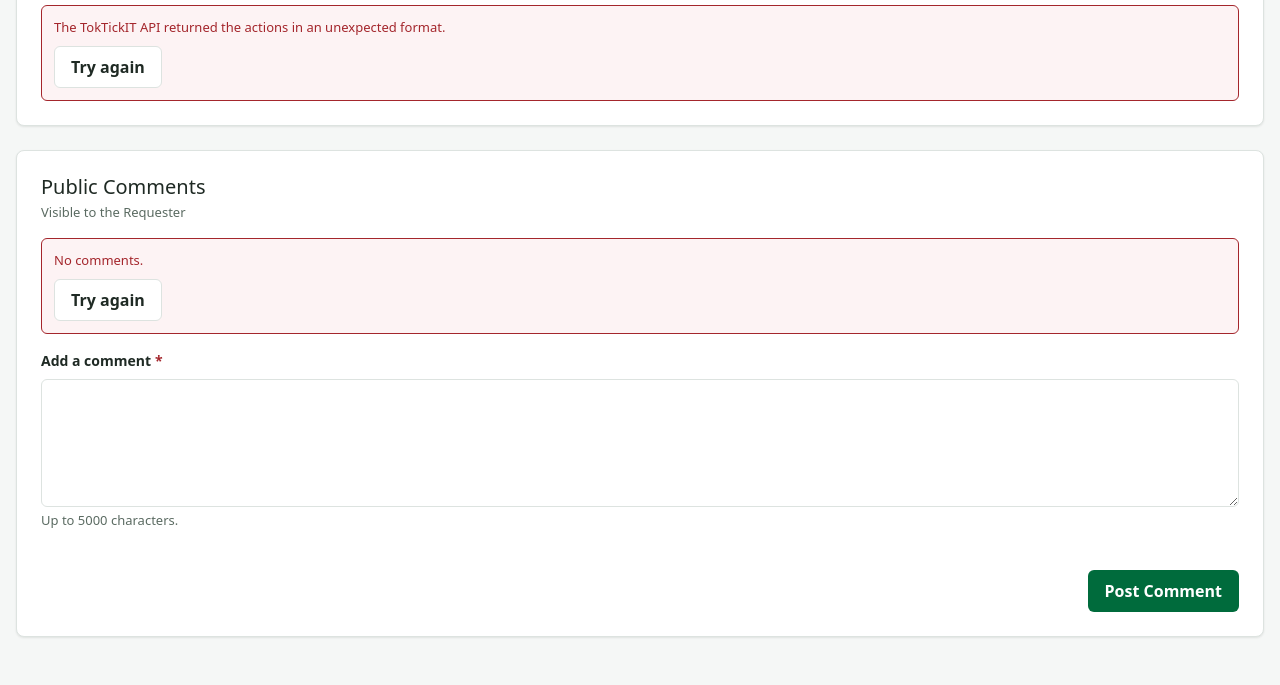
Test: review of PR #63 › a comment posted while the list is failed is shown, not lost
(page scrolled)
Expected: the text "No comments." is shown, [54,251,143,269]
Type "Posted before the list arrived." into the text box labelled "Add a comment*" at point(640, 443), box [41,379,1239,507]
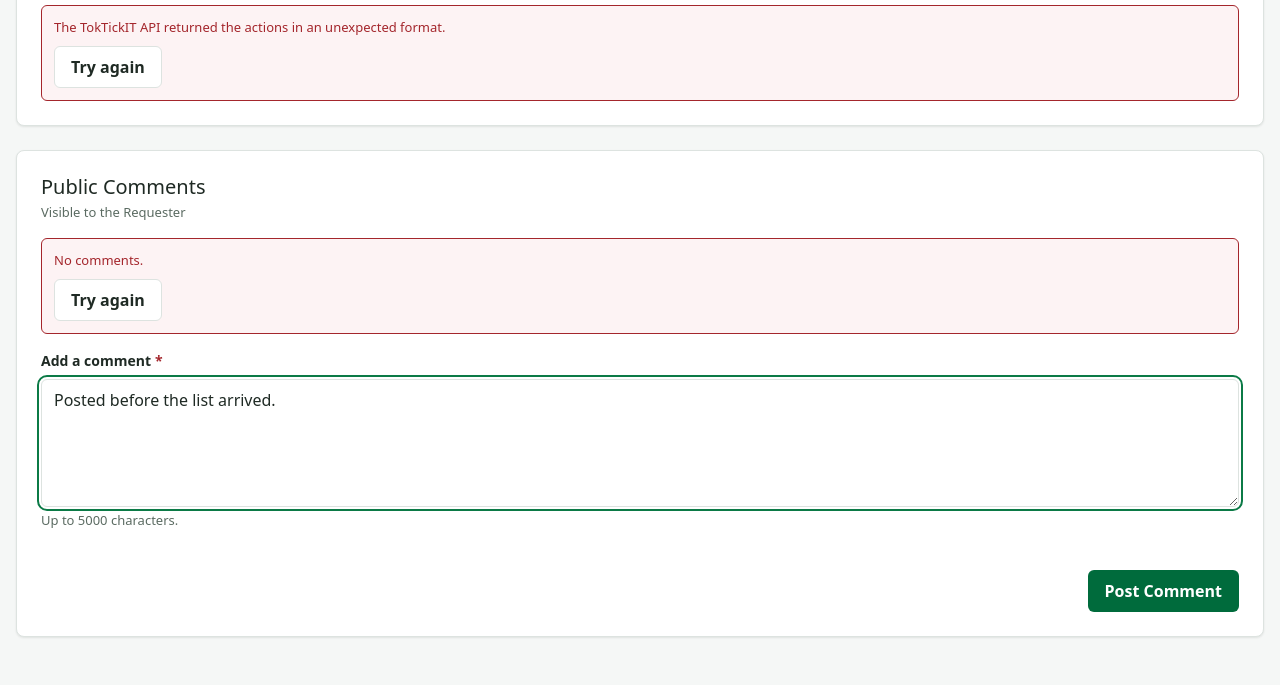
Click the button "Post Comment" at point(1163, 591), box [1088,570,1239,612]
(page scrolled)
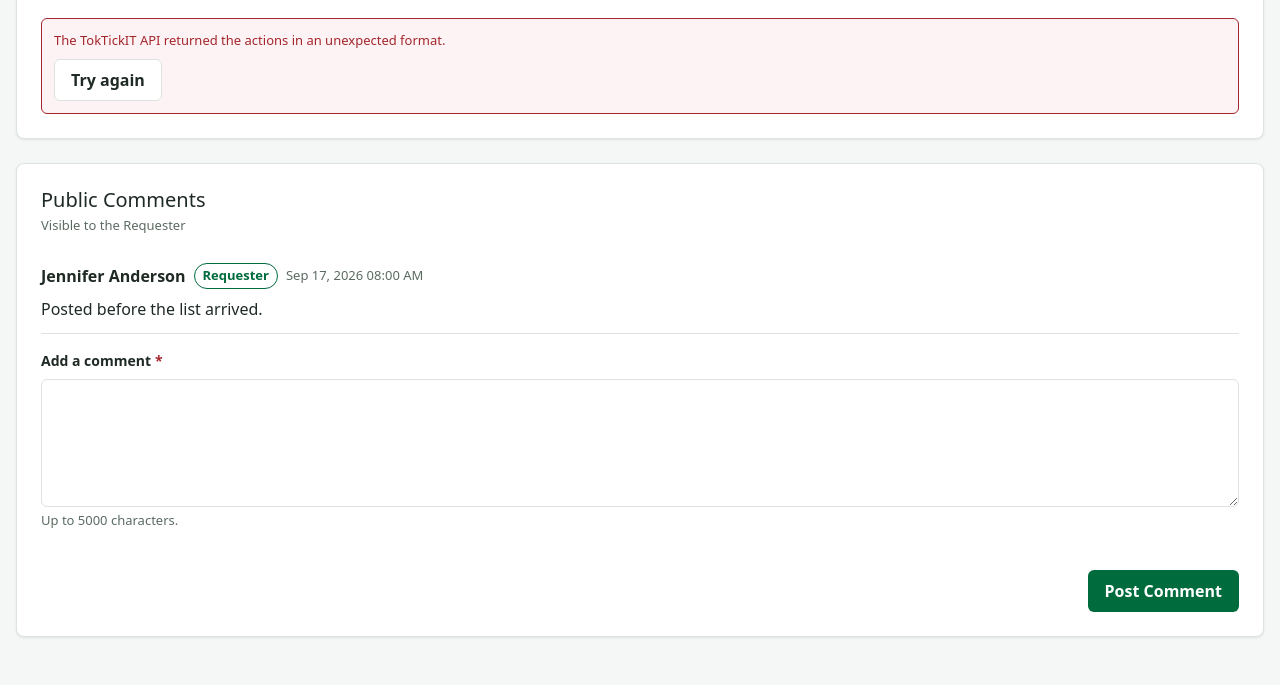
Now the text "Posted before the list arrived." is shown, box [41,298,263,320]
Now the text box labelled "Add a comment*" is empty, box [41,379,1239,507]
